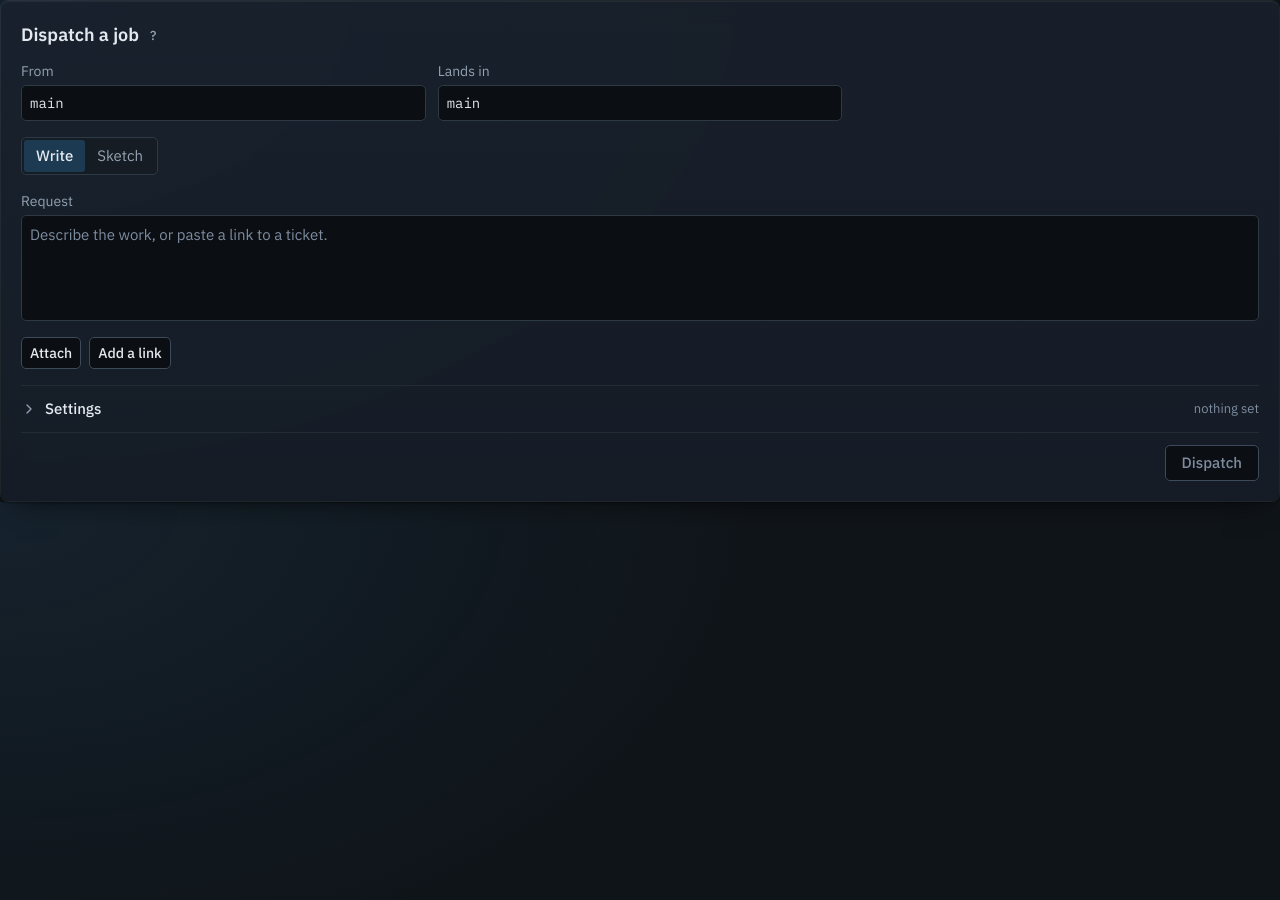
the row follows the board, not the answer
Type "The board flickers every time an event lands." into the text box labelled "Request". click: [640, 268]
box: [21,215,1259,321]
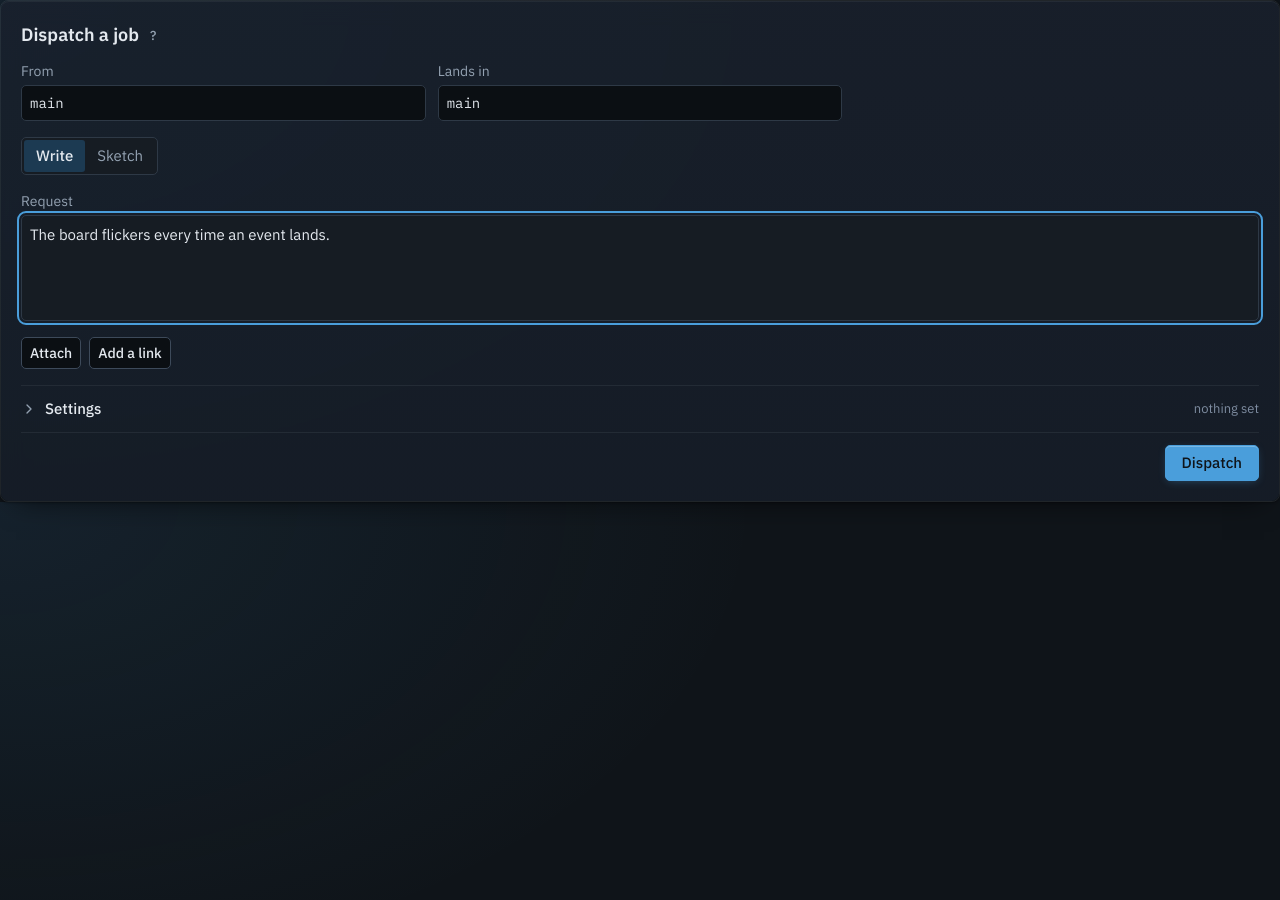
Click the button "Dispatch". click: [1212, 463]
box: [1165,445,1259,481]
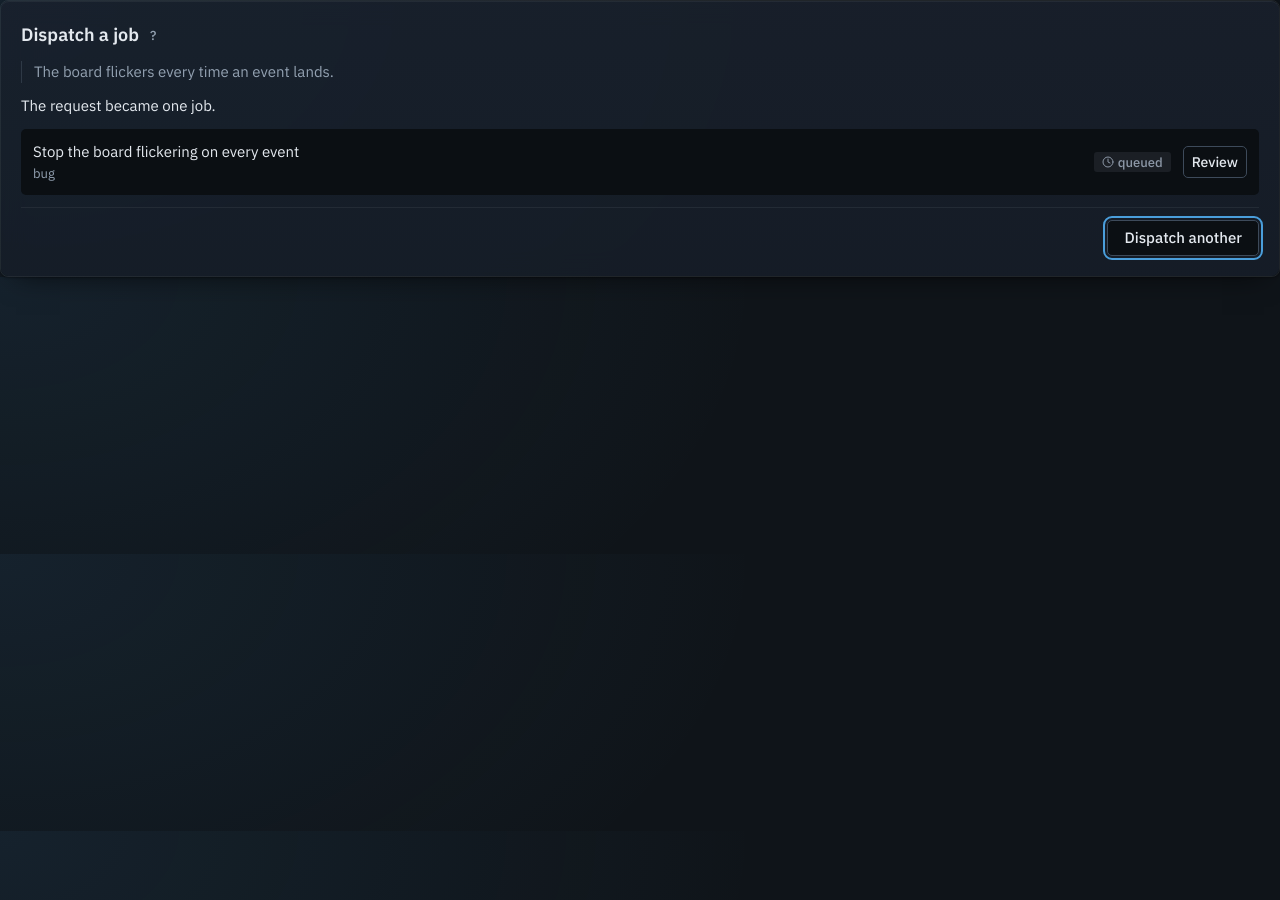
Result: the button with aria-label "Review Stop the board flickering on every event" is shown at [1183,146,1247,178]
